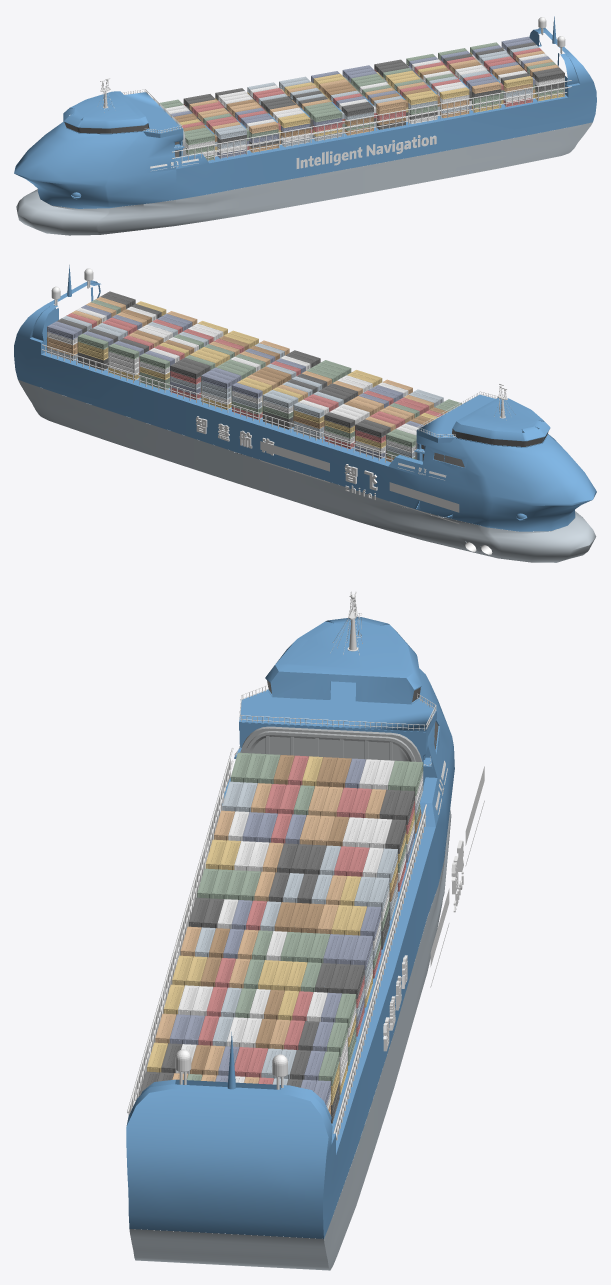
File: ship2.gltf
The picture shows the model from 3 angles, top to bottom: view 1: azimuth 30°, elevation 25°; view 2: azimuth 150°, elevation 25°; view 3: azimuth 270°, elevation 25°; orthographic projection. The views are drawn at different scales.
Visible parts, largest first — view 1: 船体-空白, 集装箱, 盖子1, 立方体, 圆柱_0_9, 圆柱_1_9, 圆柱_1_7, 圆柱_0_7; view 2: 船体-空白, 集装箱, 盖子1, 立方体, 平面.1_1, 平面_1, 圆柱_0_7, 圆柱_1_7; view 3: 集装箱, 船体-空白, 盖子1, 立方体, 挡板, 圆柱_0_9.
Part boxes in pixels (x1=…): 船体-空白: x1=14, y1=28, x2=596, y2=235; 集装箱: x1=160, y1=36, x2=564, y2=160; 盖子1: x1=63, y1=91, x2=149, y2=134; 立方体: x1=124, y1=92, x2=183, y2=137; 圆柱_0_9: x1=172, y1=80, x2=571, y2=152; 圆柱_1_9: x1=172, y1=86, x2=571, y2=158; 圆柱_1_7: x1=205, y1=92, x2=567, y2=158; 圆柱_0_7: x1=202, y1=88, x2=566, y2=154; 船体-空白: x1=14, y1=280, x2=596, y2=562; 集装箱: x1=47, y1=291, x2=462, y2=461; 盖子1: x1=452, y1=398, x2=550, y2=447; 立方体: x1=416, y1=394, x2=495, y2=442; 平面.1_1: x1=389, y1=482, x2=459, y2=512; 平面_1: x1=260, y1=441, x2=329, y2=471; 圆柱_0_7: x1=42, y1=344, x2=396, y2=456; 圆柱_1_7: x1=42, y1=349, x2=392, y2=460; 集装箱: x1=138, y1=752, x2=423, y2=1123; 船体-空白: x1=126, y1=668, x2=454, y2=1270; 盖子1: x1=265, y1=616, x2=421, y2=704; 立方体: x1=239, y1=681, x2=436, y2=739; 挡板: x1=240, y1=726, x2=422, y2=761; 圆柱_0_9: x1=127, y1=747, x2=233, y2=1113.
Size of the model in its own units: 745 by 182 by 217.
